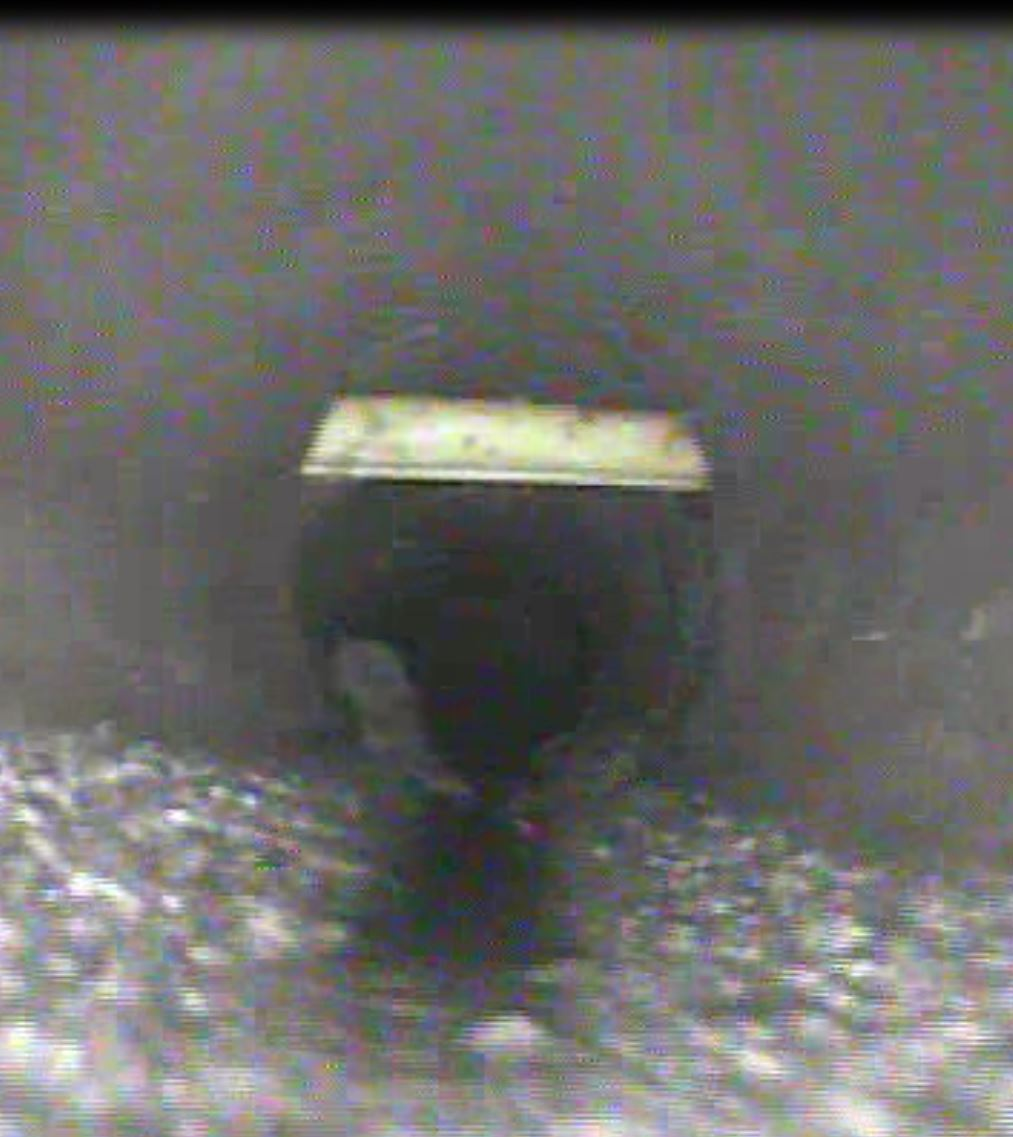cb: (281, 368, 746, 512)
